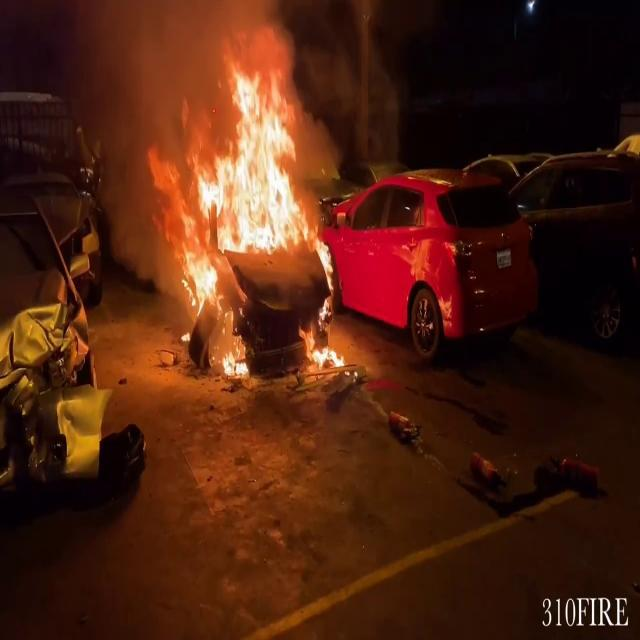Fire: (150, 28, 336, 376), (297, 320, 351, 373)
